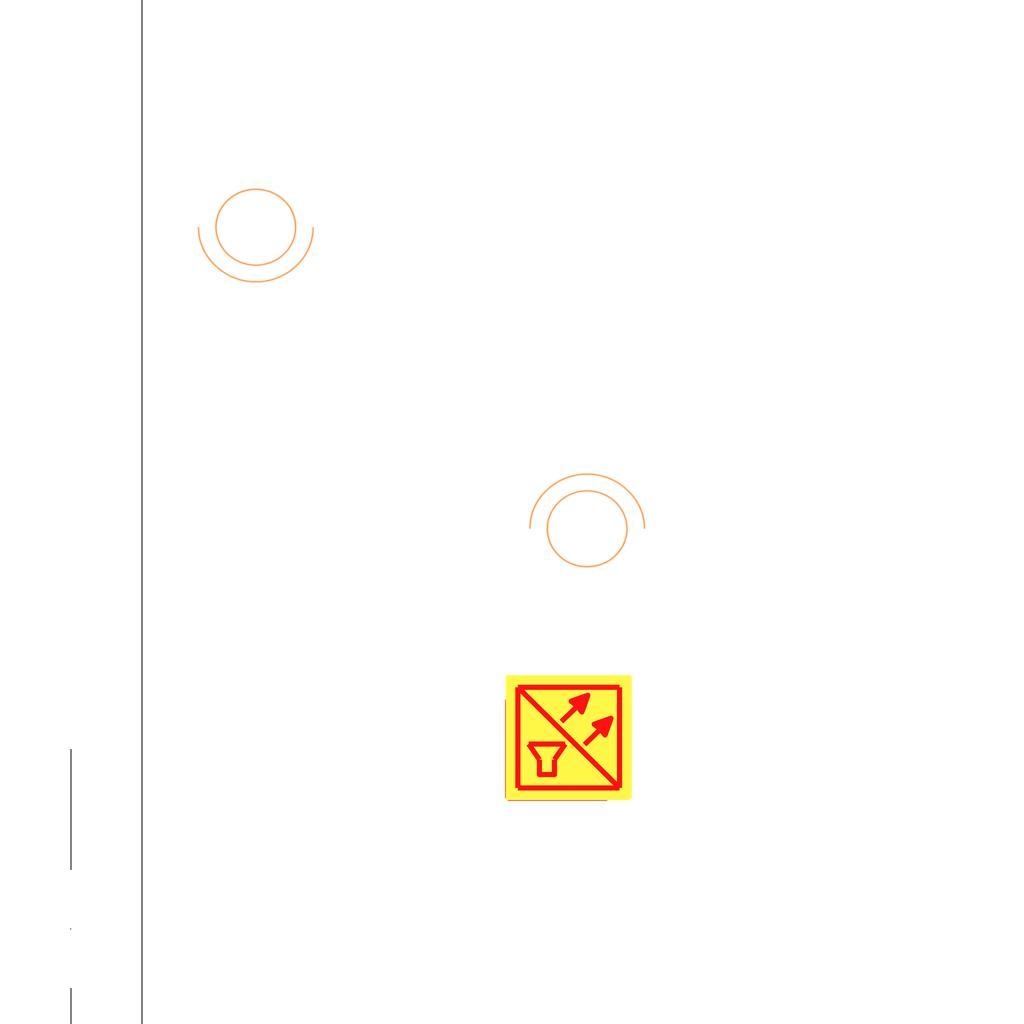OKW_Multisensormelder_(Kombination_optischer_Rauch-Kahlenmonoxid_Waerme-Melder): (503, 672, 635, 804)
Scheinwerfer_fuer_Alarmbeleuchtung: (518, 468, 650, 580), (193, 176, 325, 288)
